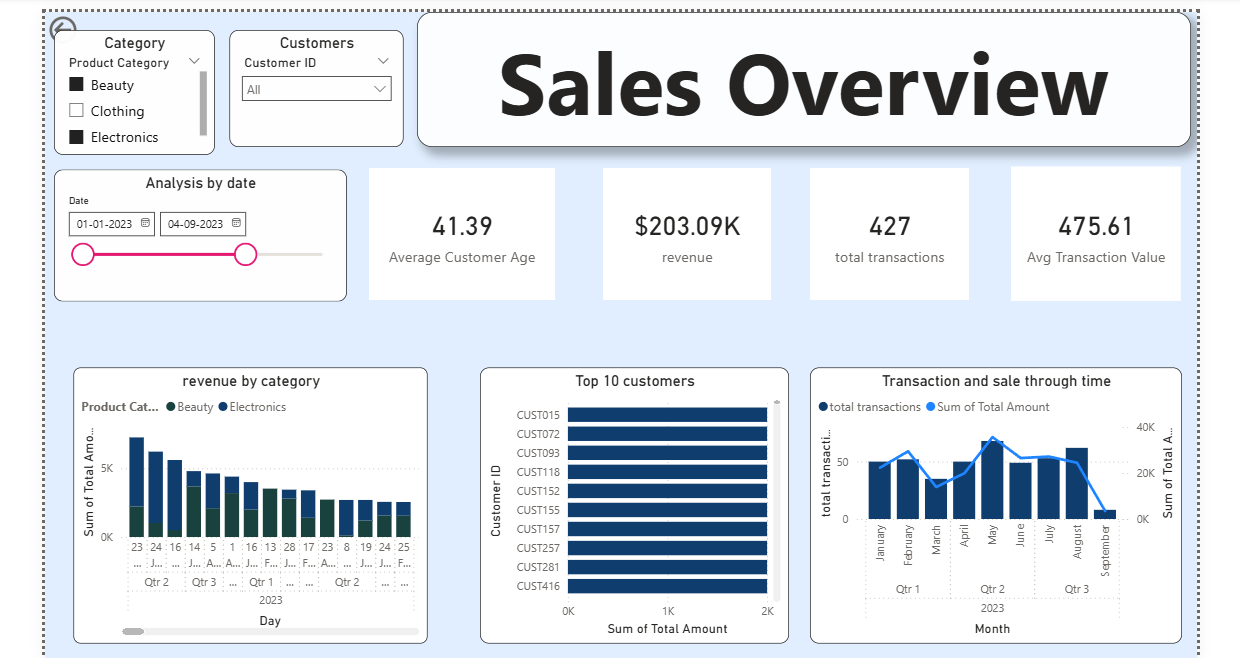

What the dashboard file says about the page in this screenshot:
{"tool":"powerbi","page":{"name":"Page 2","canvas":[1280,720],"ordinal":1},"visuals":[{"type":"actionButton","box":[0,0,100,40],"z":0},{"type":"textbox","box":[413.3,0,860,150],"z":1000},{"type":"columnChart","title":"revenue by category","fields":{"Y":["Sum(Sales.Total Amount)"],"Series":["dimProduct.Product Category"],"Category":["Sales.Date.Variation.Date Hierarchy.Year","Sales.Date.Variation.Date Hierarchy.Quarter","Sales.Date.Variation.Date Hierarchy.Month","Sales.Date.Variation.Date Hierarchy.Day"]},"box":[31.7,395,393.3,306.7],"z":2000},{"type":"lineStackedColumnComboChart","title":"Transaction and sale through time","fields":{"Category":["Sales.Date.Variation.Date Hierarchy.Year","Sales.Date.Variation.Date Hierarchy.Quarter","Sales.Date.Variation.Date Hierarchy.Month","Sales.Date.Variation.Date Hierarchy.Day"],"Y":["Cost.total transactions"],"Y2":["Sum(Sales.Total Amount)"]},"box":[850,395,413.3,306.7],"z":3000},{"type":"card","fields":{"Values":["Cost.revenue"]},"box":[620,173.3,186.7,146.7],"z":4000},{"type":"card","fields":{"Values":["Cost.total transactions"]},"box":[850,173.3,176.7,146.7],"z":5000},{"type":"card","fields":{"Values":["Cost.Avg Transaction Value"]},"box":[1073.4,172,189,149.3],"z":6000},{"type":"card","fields":{"Values":["Cost.Average Customer Age"]},"box":[360,173.3,206.7,146.7],"z":7000},{"type":"barChart","title":"Top 10 customers","fields":{"Y":["Sum(Sales.Total Amount)"],"Category":["Sales.Customer ID"]},"box":[483.3,395,343.3,306.7],"z":8000},{"type":"slicer","title":"Analysis by date","fields":{"Values":["Sales.Date"]},"box":[10,175,325,146.7],"z":9000},{"type":"slicer","title":"Category","fields":{"Values":["dimProduct.Product Category"]},"box":[10,20,178.3,138.3],"z":9001},{"type":"slicer","title":"Customers","fields":{"Values":["Sales.Customer ID"]},"box":[205,20,193.3,130],"z":9002}]}

Visuals, with their boxes on the page's 1280x720 design canvas (x1, y1, x2, y2). These are canvas units, not pixel positions in the 1240x658 screenshot, which may show the page scaled, cropped or inside an application window:
actionButton: 0/0/100/40
textbox: 413/0/1273/150
"revenue by category" columnChart: 32/395/425/702
"Transaction and sale through time" lineStackedColumnComboChart: 850/395/1263/702
card - Cost.revenue: 620/173/807/320
card - Cost.total transactions: 850/173/1027/320
card - Cost.Avg Transaction Value: 1073/172/1262/321
card - Cost.Average Customer Age: 360/173/567/320
"Top 10 customers" barChart: 483/395/827/702
"Analysis by date" slicer: 10/175/335/322
"Category" slicer: 10/20/188/158
"Customers" slicer: 205/20/398/150
